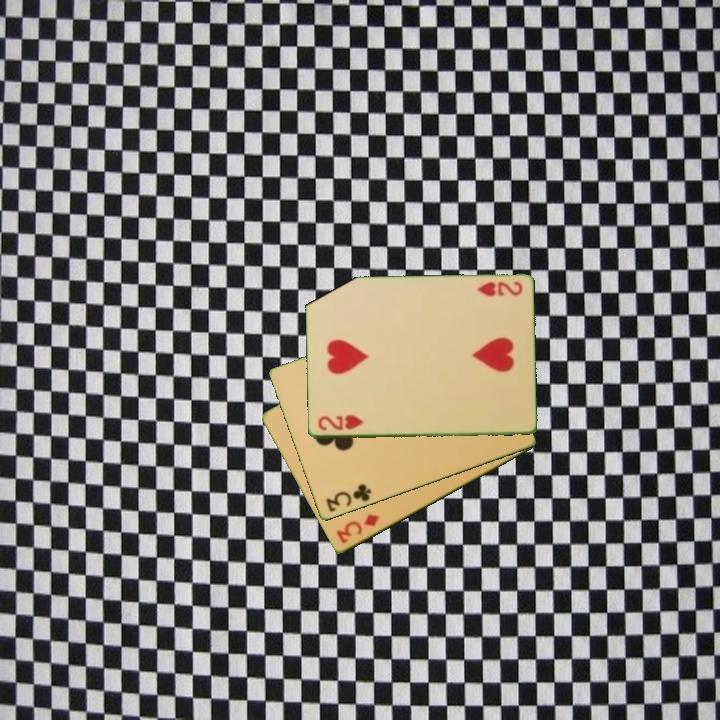2h: (314, 412, 366, 434), (473, 278, 525, 300)
3c: (322, 481, 374, 515)
3d: (332, 511, 382, 547)
